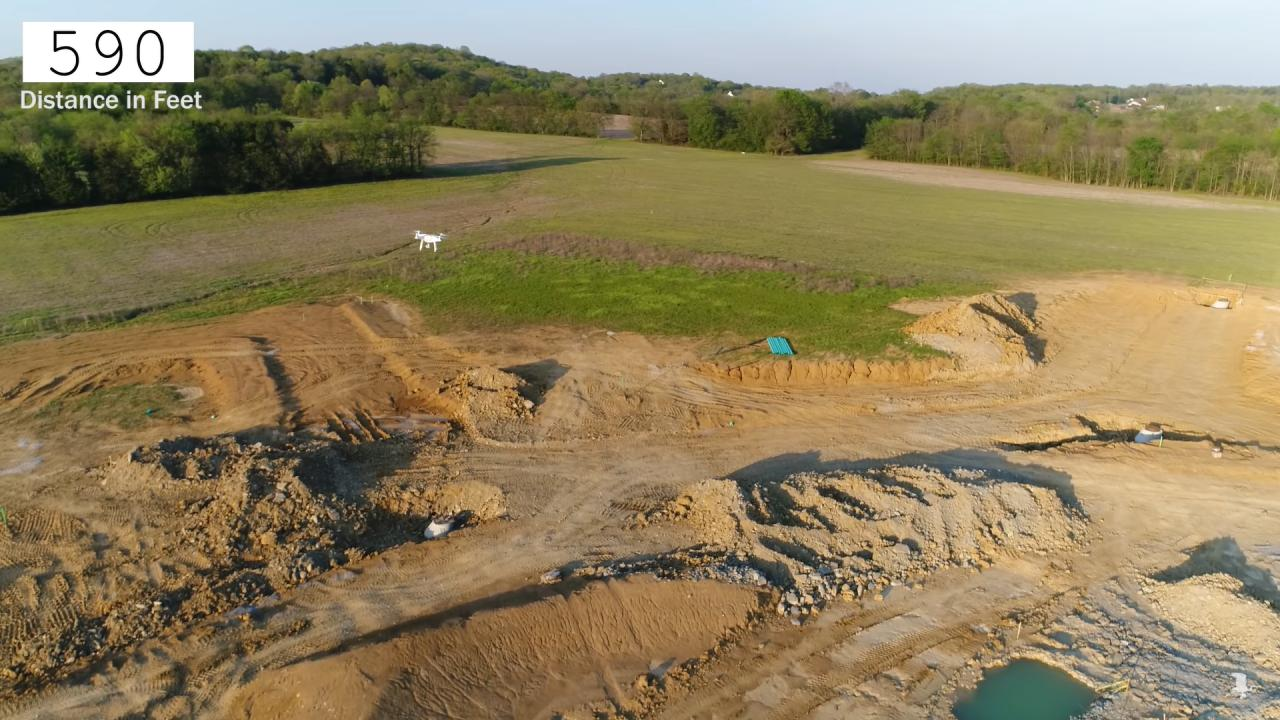Drone: (402, 220, 455, 260)
